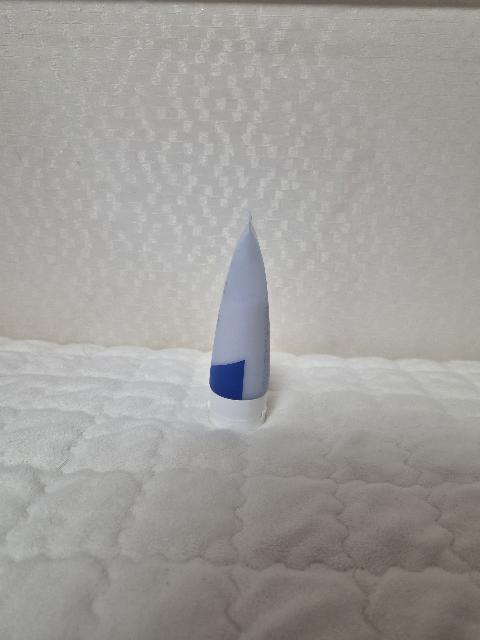handcream: (207, 210, 270, 432)
